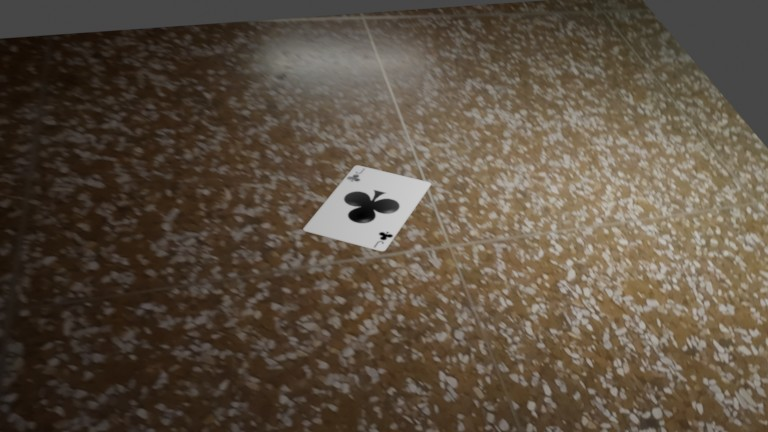jack_of_clubs: (369, 230, 396, 251), (344, 166, 369, 184)
